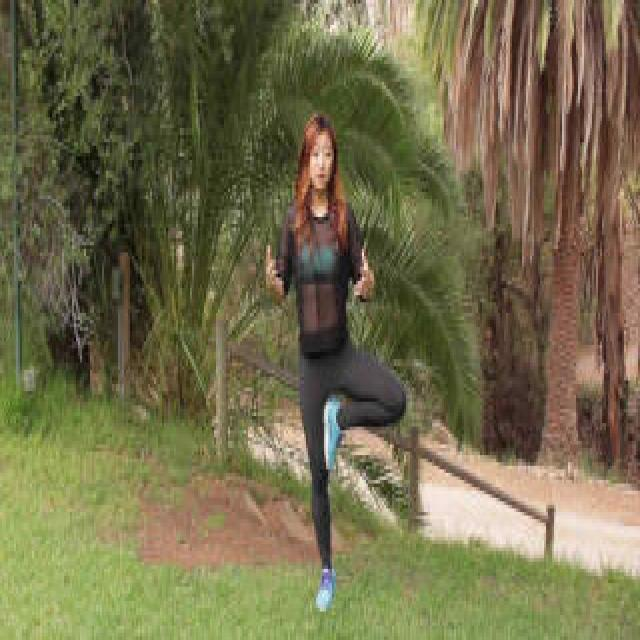yoga-pose tree: (267, 114, 409, 616)
